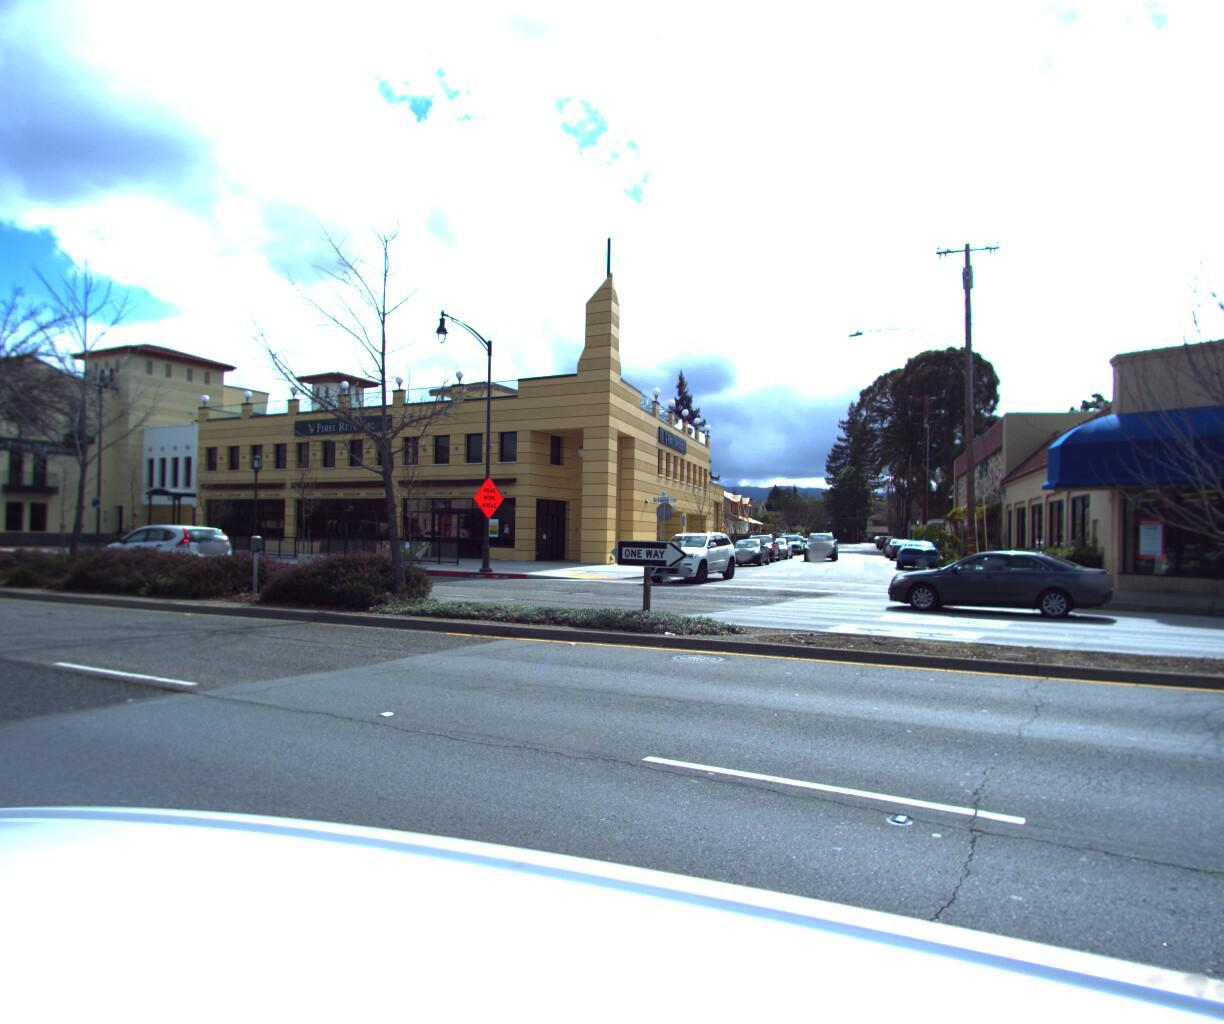car: (891, 552, 1117, 630), (87, 523, 236, 586), (636, 534, 741, 592), (889, 544, 939, 579), (719, 546, 775, 575), (805, 546, 840, 573), (778, 538, 805, 560), (0, 530, 1, 556)
